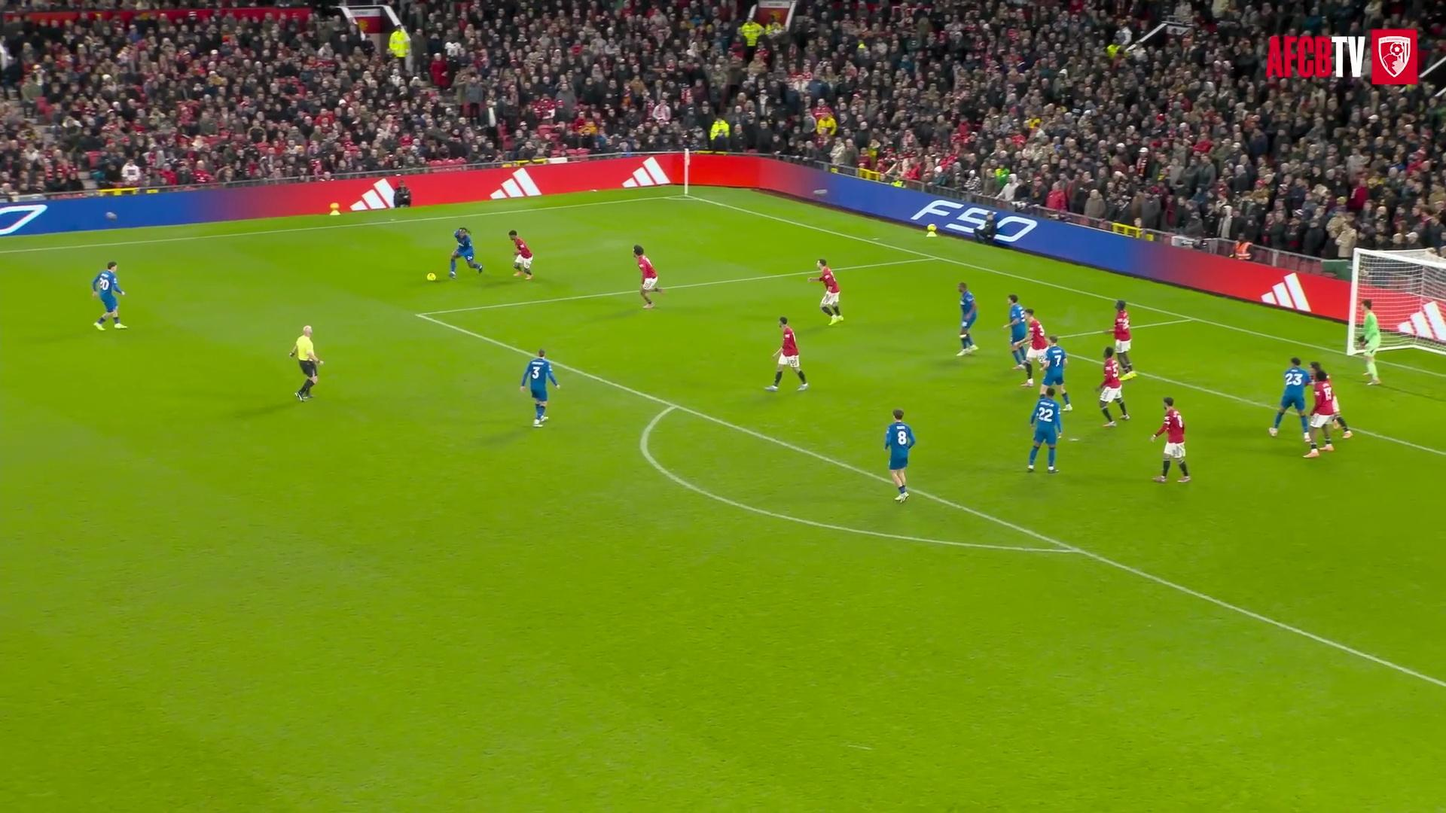football: (423, 268, 442, 288)
player: (1270, 358, 1311, 441), (1151, 397, 1189, 483), (765, 317, 808, 391), (520, 349, 560, 427), (1304, 369, 1338, 457), (1028, 388, 1062, 472), (885, 410, 914, 502), (1098, 347, 1129, 427), (92, 261, 126, 330), (809, 258, 843, 325), (1041, 336, 1071, 410), (1021, 309, 1048, 387), (633, 245, 663, 308), (1113, 300, 1136, 379), (1359, 299, 1380, 385), (1005, 294, 1027, 369), (450, 227, 482, 278), (957, 282, 978, 356), (508, 230, 532, 279), (1334, 396, 1351, 438)
referee: (289, 325, 322, 400)
